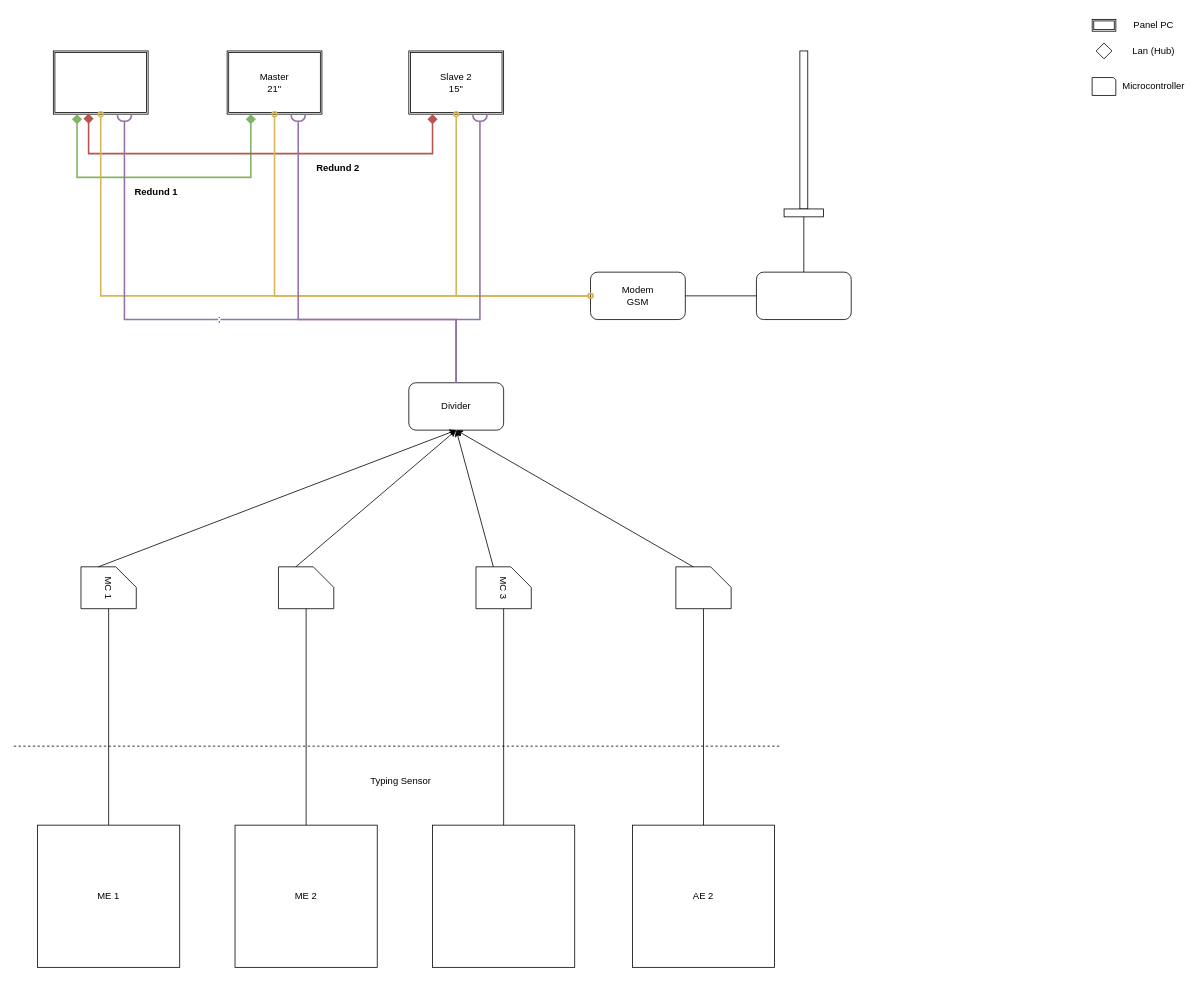
The diagram is 1198 pixels wide and 981 high, and some of its shapes have lost their labels. Here are the shapes that lost their labels. From the top down, the box of each, then its label:
(53, 50, 148, 114): Slave 1 15"
(756, 271, 851, 320): Signal Amplifier
(278, 566, 334, 609): MC 2
(675, 566, 731, 609): MC 4
(432, 824, 575, 967): AE 1
